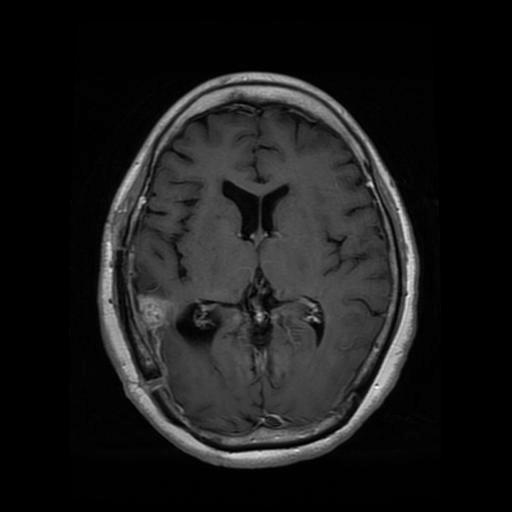Tumour-Glioma: (122, 279, 187, 360)
